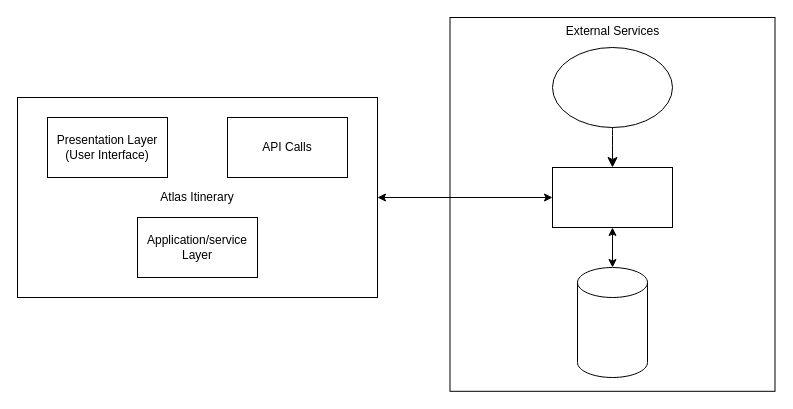
This 793x409 diagram has some shape labels left out. The centre of each missing label's shape, as x and y in pixels:
"Google Places API" belongs at (x=612, y=87).
"Supabase" belongs at (x=612, y=322).
"Vercel Server" belongs at (x=612, y=197).
